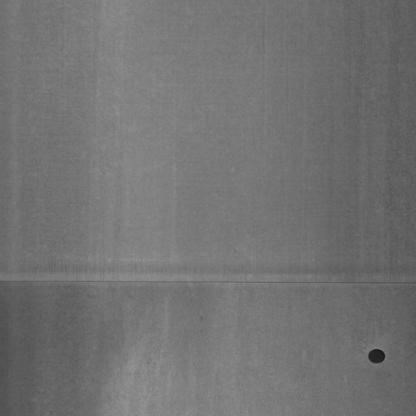punching_hole: (364, 346, 388, 370)
welding_line: (1, 270, 414, 296)
